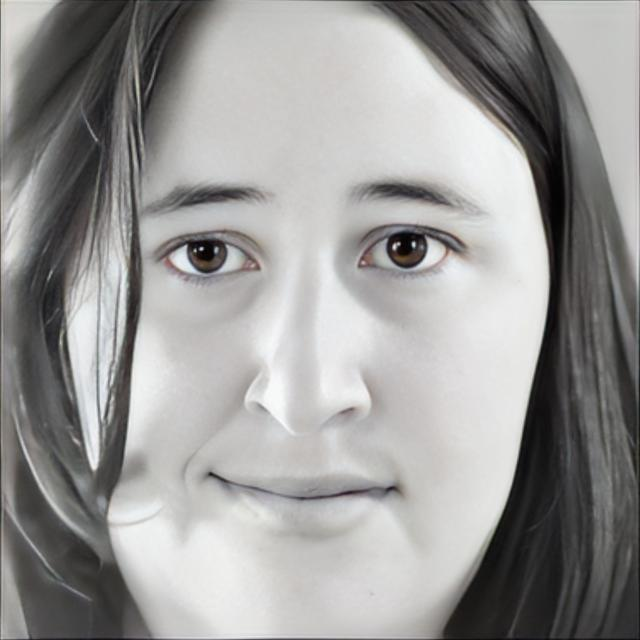content: (61, 0, 549, 640)
